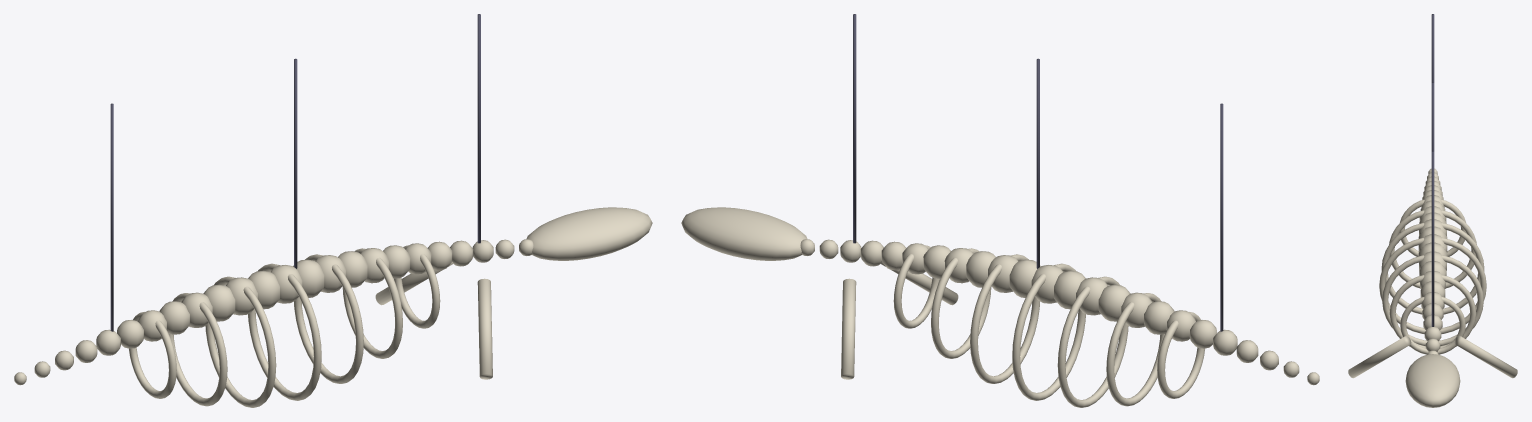
File: hung_skeleton.glb
3 views of the same model, side by side, from view 1: azimuth 30°, elevation 25°; view 2: azimuth 150°, elevation 25°; view 3: azimuth 270°, elevation 25° (orthographic). The views are drawn at different scales.
Parts seen in each view (by area): view 1: hung_skeleton; view 2: hung_skeleton; view 3: hung_skeleton.
Boxes of the visible parts, box(x1,y1,x2,y2) form: hung_skeleton: box(14, 14, 652, 407); hung_skeleton: box(681, 14, 1319, 407); hung_skeleton: box(1348, 14, 1517, 407).
Size of the model in its own units: 5.54 by 2.78 by 1.67.
